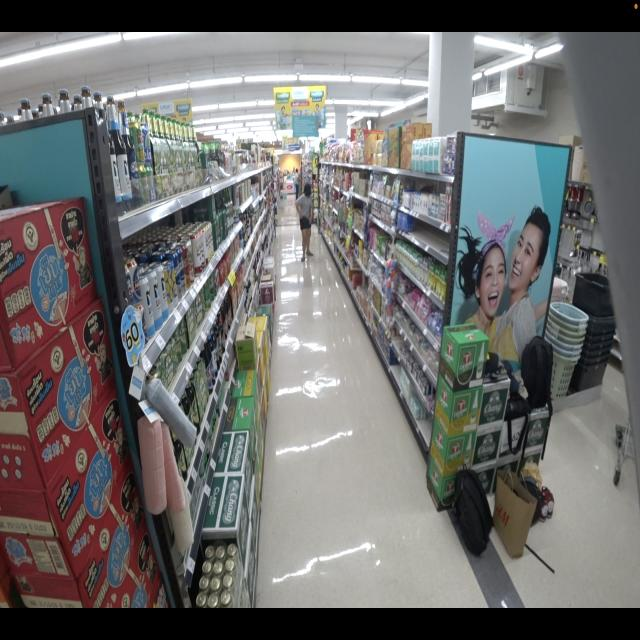shoplifting: (296, 183, 314, 267)
